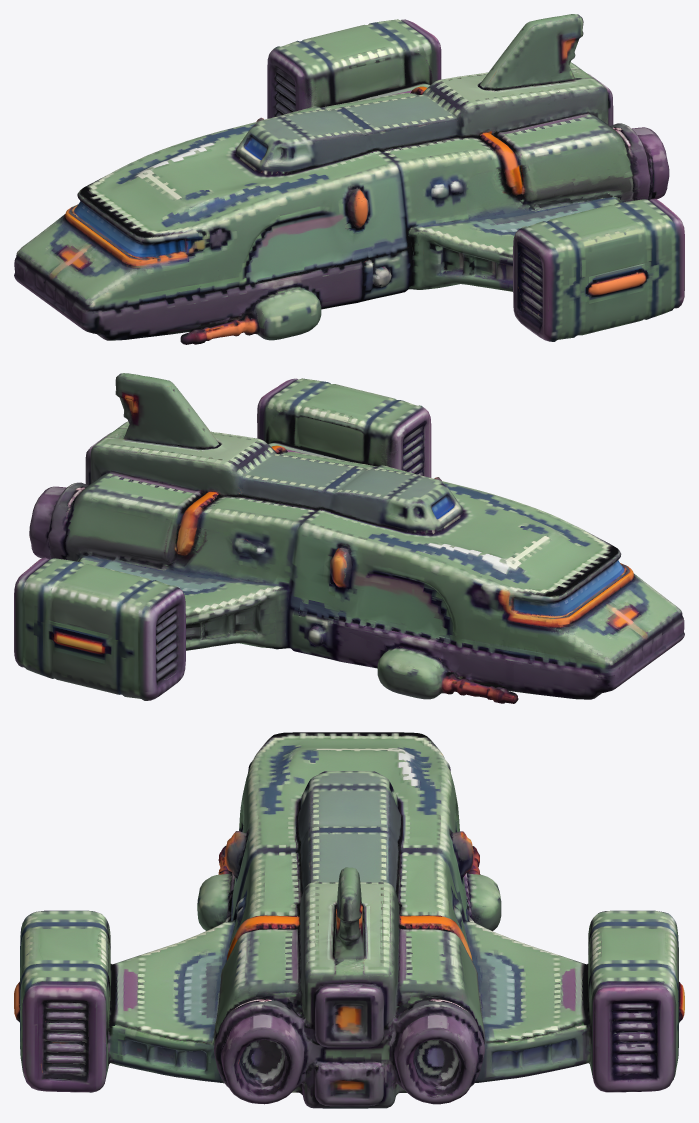
The model's file is Obsidian_Reaver.glb.
The picture shows the model from 3 angles, top to bottom: view 1: azimuth 30°, elevation 25°; view 2: azimuth 150°, elevation 25°; view 3: azimuth 270°, elevation 25°; orthographic projection. The views are drawn at different scales.
Parts seen in each view (by area): view 1: Mesh_0.001; view 2: Mesh_0.001; view 3: Mesh_0.001.
Part boxes in pixels (x1,y1,x2,y2): Mesh_0.001: [14, 14, 684, 344]; Mesh_0.001: [14, 373, 684, 703]; Mesh_0.001: [14, 732, 684, 1108].
Bounding box in the file's own units: 1.91 × 0.6398 × 1.69.
Materials: 1 (1 with a texture image).
